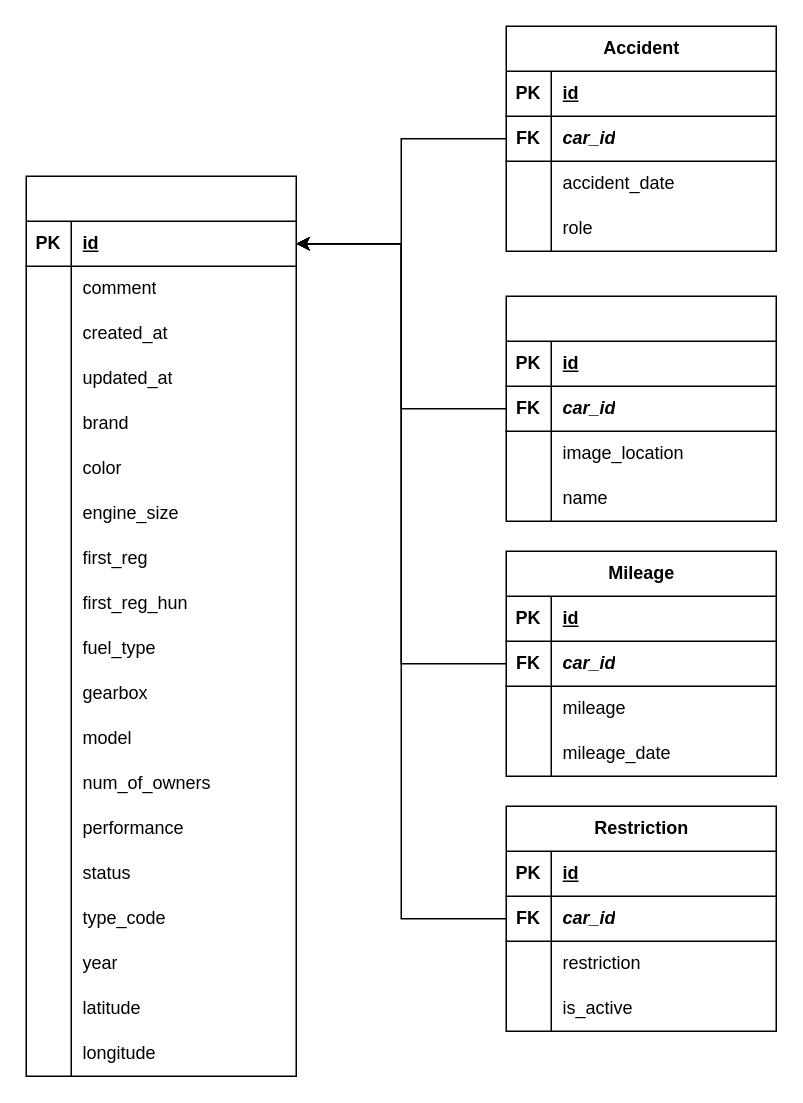
Some shapes in this 803 by 1103 pixel diagram are drawn without their labels. Here are the shapes that lost their labels. From the top down, the box of each, then its label:
(505, 295, 776, 521): Inspection
(25, 175, 296, 1076): Car
